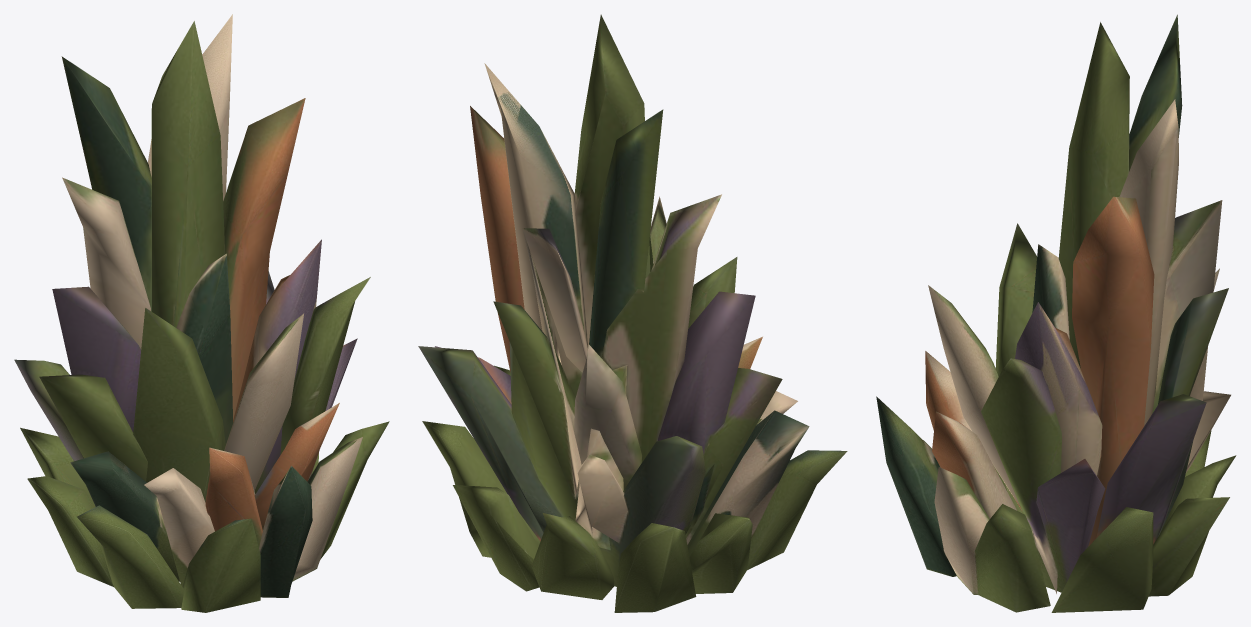
File: AW-VAR-FLORA-002-v0.2.glb
The picture shows the model from 3 angles, left to right: view 1: azimuth 30°, elevation 25°; view 2: azimuth 150°, elevation 25°; view 3: azimuth 270°, elevation 25°; orthographic projection. The views are drawn at different scales.
Visible parts, largest first — view 1: AW-VAR-FLORA-002_meter_ground_pivot; view 2: AW-VAR-FLORA-002_meter_ground_pivot; view 3: AW-VAR-FLORA-002_meter_ground_pivot.
Boxes of the visible parts, x1=… form: AW-VAR-FLORA-002_meter_ground_pivot: x1=14, y1=14, x2=389, y2=612; AW-VAR-FLORA-002_meter_ground_pivot: x1=418, y1=14, x2=847, y2=612; AW-VAR-FLORA-002_meter_ground_pivot: x1=876, y1=14, x2=1236, y2=612.
Bounding box in the file's own units: 0.4049 × 0.6 × 0.361.
1 material, 1 textured.
